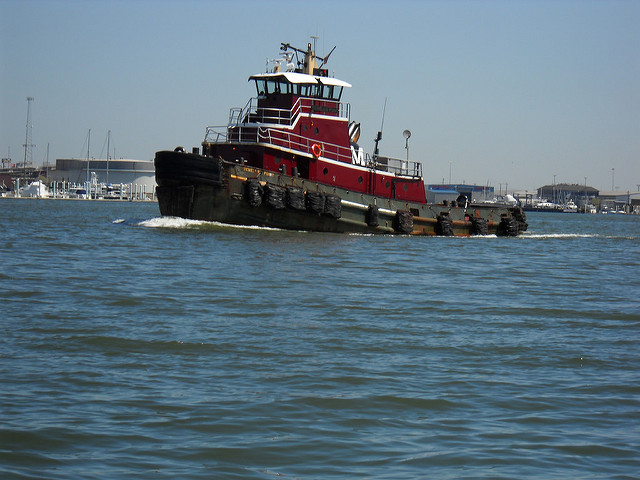tug_boat: (158, 40, 536, 245)
